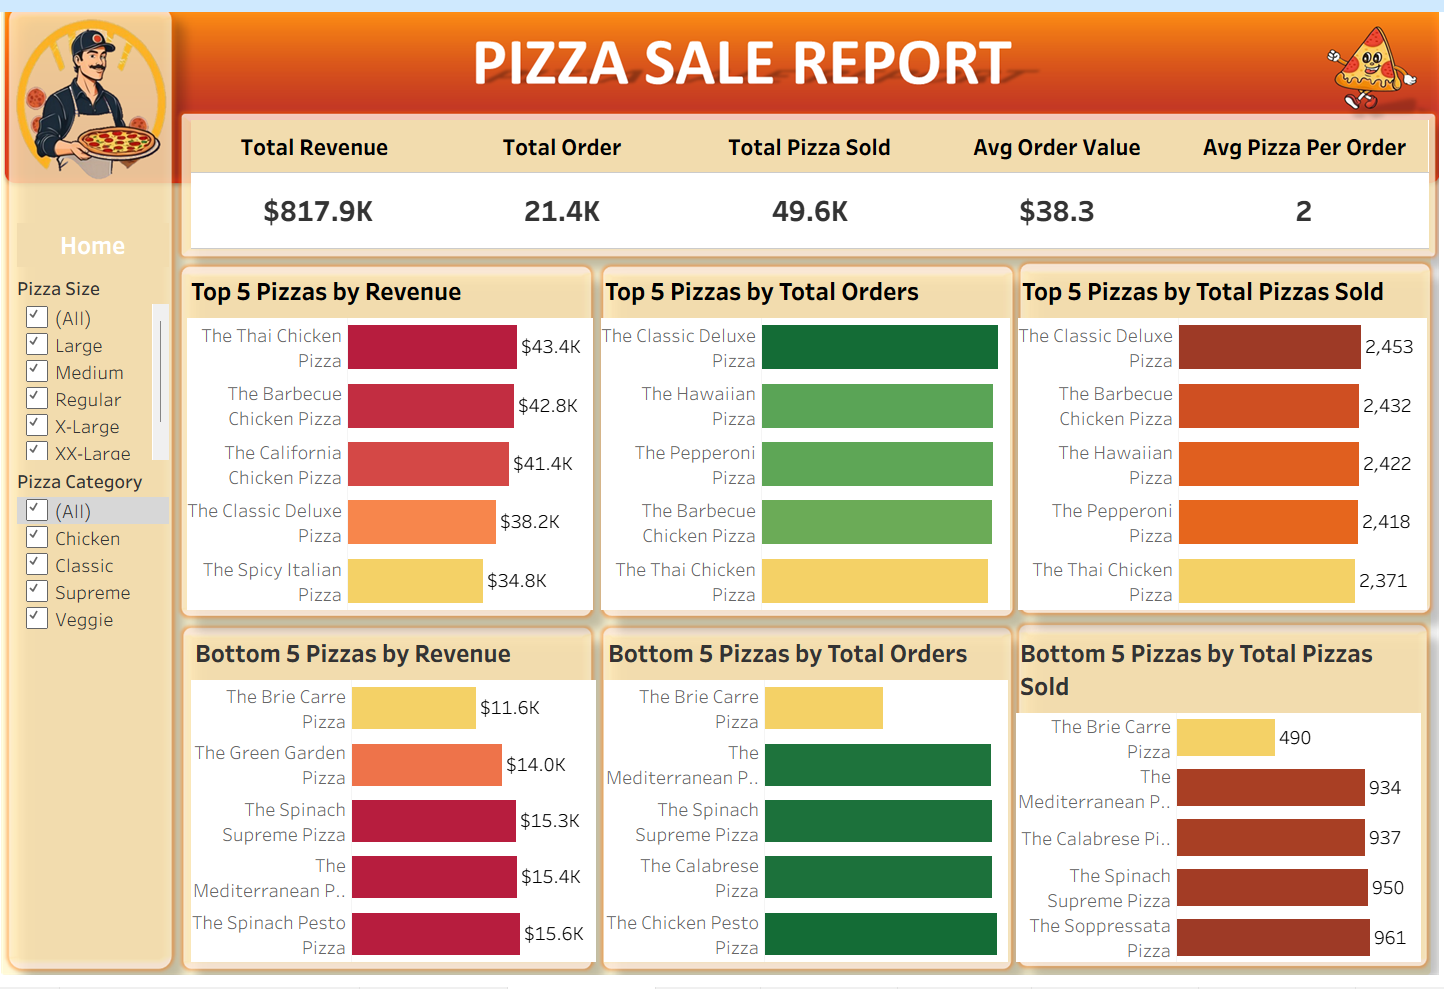

What the dashboard file says about the page in this screenshot:
{"tool":"tableau","page":{"name":"Dashboard 2","canvas":[1000,1000],"units":"permille","ordinal":1},"visuals":[{"type":"image","param":"Image/Slide4.PNG","box":[5.3,8,989.3,984]},{"type":"worksheet","title":"KPI Banner","mark":"Automatic","box":[144.7,129,830.7,137]},{"type":"dashboard-object","box":[28.7,232,106.7,52]},{"type":"worksheet","title":"Top 5 Rev","mark":"Automatic","rows":["pizza_name"],"cols":["Calculation_0986304887767042"],"box":[142,279,276,348]},{"type":"worksheet","title":"Top 5 by Orders","mark":"Automatic","rows":["pizza_name"],"cols":["Calculation_0986304887504897"],"box":[418,279,278,348]},{"type":"worksheet","title":"Top 5 Quality","mark":"Automatic","rows":["pizza_name"],"cols":["Calculation_0986304888209411"],"box":[696,279,278,348]},{"type":"filter","title":"Top 5 Rev","param":"[federated.0eyhhnv1c6yr6z0zupctl002wh75].[none:pizza_size:nk]","box":[28.7,284,106.7,193]},{"type":"filter","title":"Top 5 Rev","param":"[federated.0eyhhnv1c6yr6z0zupctl002wh75].[none:pizza_category:nk]","box":[28.7,477,106.7,175]},{"type":"worksheet","title":"Bpttom 5 Rev","mark":"Automatic","rows":["pizza_name"],"cols":["Calculation_0986304887767042"],"box":[144.7,641,275.1,338]},{"type":"worksheet","title":"Bottom 5 by Orders","mark":"Automatic","rows":["pizza_name"],"cols":["Calculation_0986304887504897"],"box":[419.8,641,275.1,338]},{"type":"worksheet","title":"Bottom 5 Quality","mark":"Automatic","rows":["pizza_name"],"cols":["Calculation_0986304888209411"],"box":[694.9,641,275.1,338]}]}

Visuals, with their boxes on the dashboard's canvas, which has no fixed pixel size, in thousandths of its width and height (x1, y1, x2, y2). These are canvas units, not pixel positions in the 1444x989 screenshot, which may show the page scaled, cropped or inside an application window:
image: {"left": 5, "top": 8, "right": 995, "bottom": 992}
"KPI Banner" worksheet: {"left": 145, "top": 129, "right": 975, "bottom": 266}
dashboard-object: {"left": 29, "top": 232, "right": 135, "bottom": 284}
"Top 5 Rev" worksheet: {"left": 142, "top": 279, "right": 418, "bottom": 627}
"Top 5 by Orders" worksheet: {"left": 418, "top": 279, "right": 696, "bottom": 627}
"Top 5 Quality" worksheet: {"left": 696, "top": 279, "right": 974, "bottom": 627}
"Top 5 Rev" filter: {"left": 29, "top": 284, "right": 135, "bottom": 477}
"Top 5 Rev" filter: {"left": 29, "top": 477, "right": 135, "bottom": 652}
"Bpttom 5 Rev" worksheet: {"left": 145, "top": 641, "right": 420, "bottom": 979}
"Bottom 5 by Orders" worksheet: {"left": 420, "top": 641, "right": 695, "bottom": 979}
"Bottom 5 Quality" worksheet: {"left": 695, "top": 641, "right": 970, "bottom": 979}
